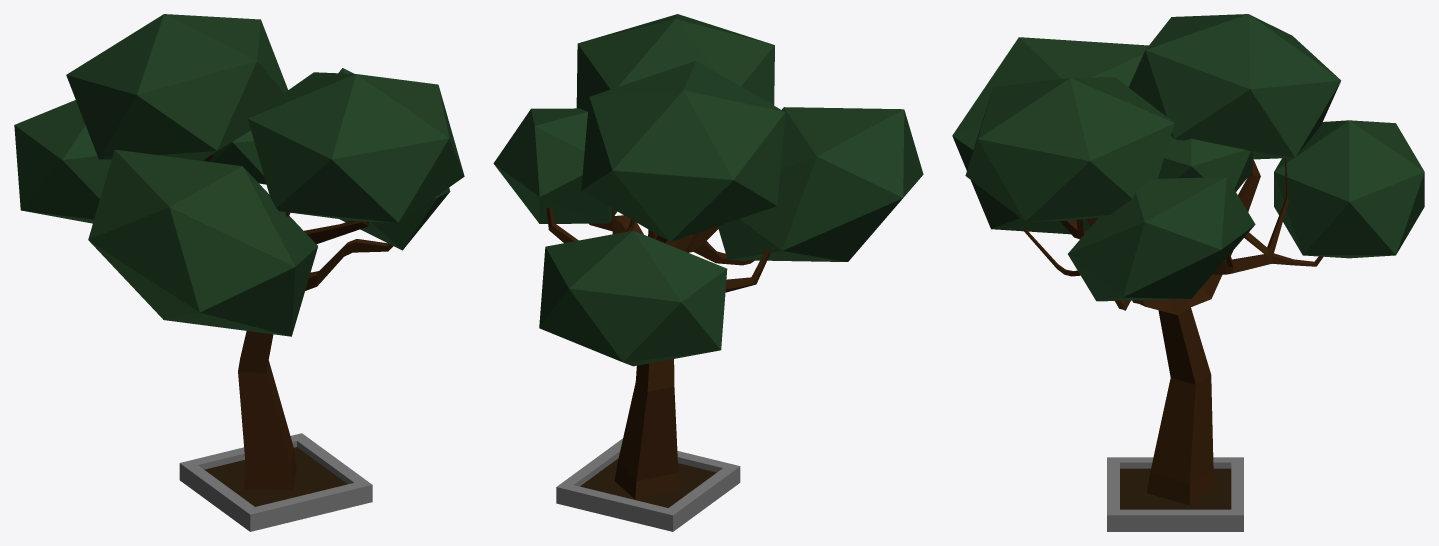
File: Árvore.glb
The picture shows the model from 3 angles, left to right: view 1: azimuth 30°, elevation 25°; view 2: azimuth 150°, elevation 25°; view 3: azimuth 270°, elevation 25°; orthographic projection. The views are drawn at different scales.
Visible parts, largest first — view 1: Leaves, Pot-convcol, Trunk-convcol; view 2: Leaves, Trunk-convcol, Pot-convcol; view 3: Leaves, Trunk-convcol, Pot-convcol.
Part boxes in pixels (x1=…): Leaves: x1=14, y1=14, x2=464, y2=336; Pot-convcol: x1=179, y1=433, x2=372, y2=531; Trunk-convcol: x1=205, y1=154, x2=393, y2=490; Leaves: x1=493, y1=14, x2=923, y2=366; Trunk-convcol: x1=546, y1=207, x2=770, y2=498; Pot-convcol: x1=556, y1=438, x2=740, y2=531; Leaves: x1=952, y1=14, x2=1424, y2=301; Trunk-convcol: x1=1022, y1=158, x2=1323, y2=505; Pot-convcol: x1=1107, y1=457, x2=1243, y2=531.
Size of the model in its own units: 8.96 by 10.79 by 10.09.
